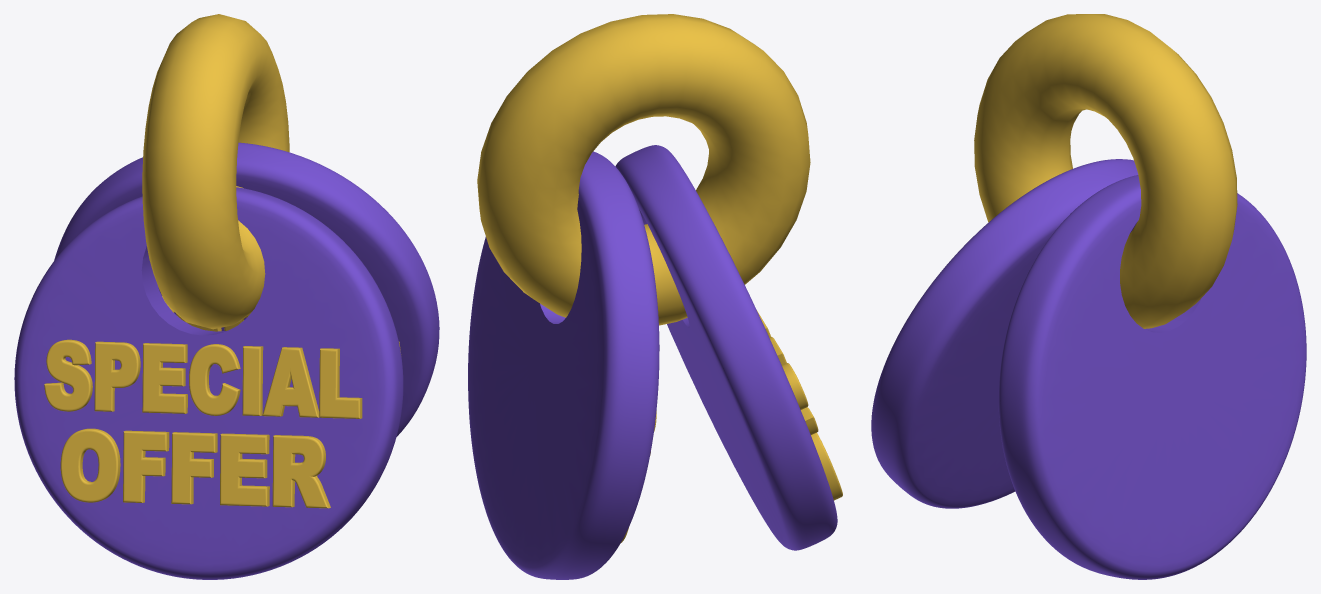
File: special-offer-3d-icon-1416070131321.glb
3 renders of one model, left to right at view 1: azimuth 30°, elevation 25°; view 2: azimuth 150°, elevation 25°; view 3: azimuth 270°, elevation 25°, orthographic. The views are drawn at different scales.
Visible parts, largest first — view 1: Tag, Ring, Special Offer; view 2: Tag, Ring, Special Offer; view 3: Tag, Ring.
Part boxes in pixels (<box>): Tag: <box>14,142,439,579</box>; Ring: <box>142,14,289,329</box>; Special Offer: <box>44,296,401,508</box>; Tag: <box>468,145,837,579</box>; Ring: <box>477,14,810,325</box>; Special Offer: <box>621,310,842,542</box>; Tag: <box>871,159,1306,579</box>; Ring: <box>974,14,1237,328</box>.
Size of the model in its own units: 1.68 by 2.15 by 1.67.
